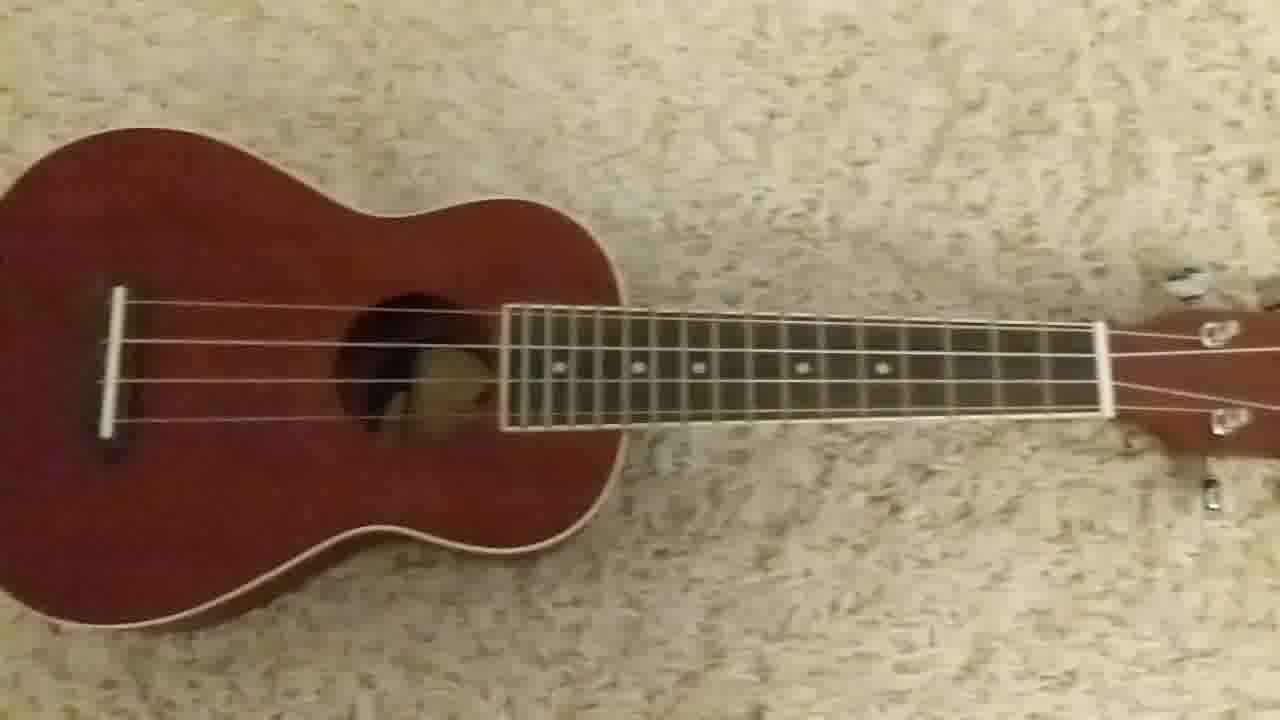Body: (1, 122, 629, 632)
Bridge: (90, 279, 143, 442)
Headstock: (1110, 257, 1280, 516)
